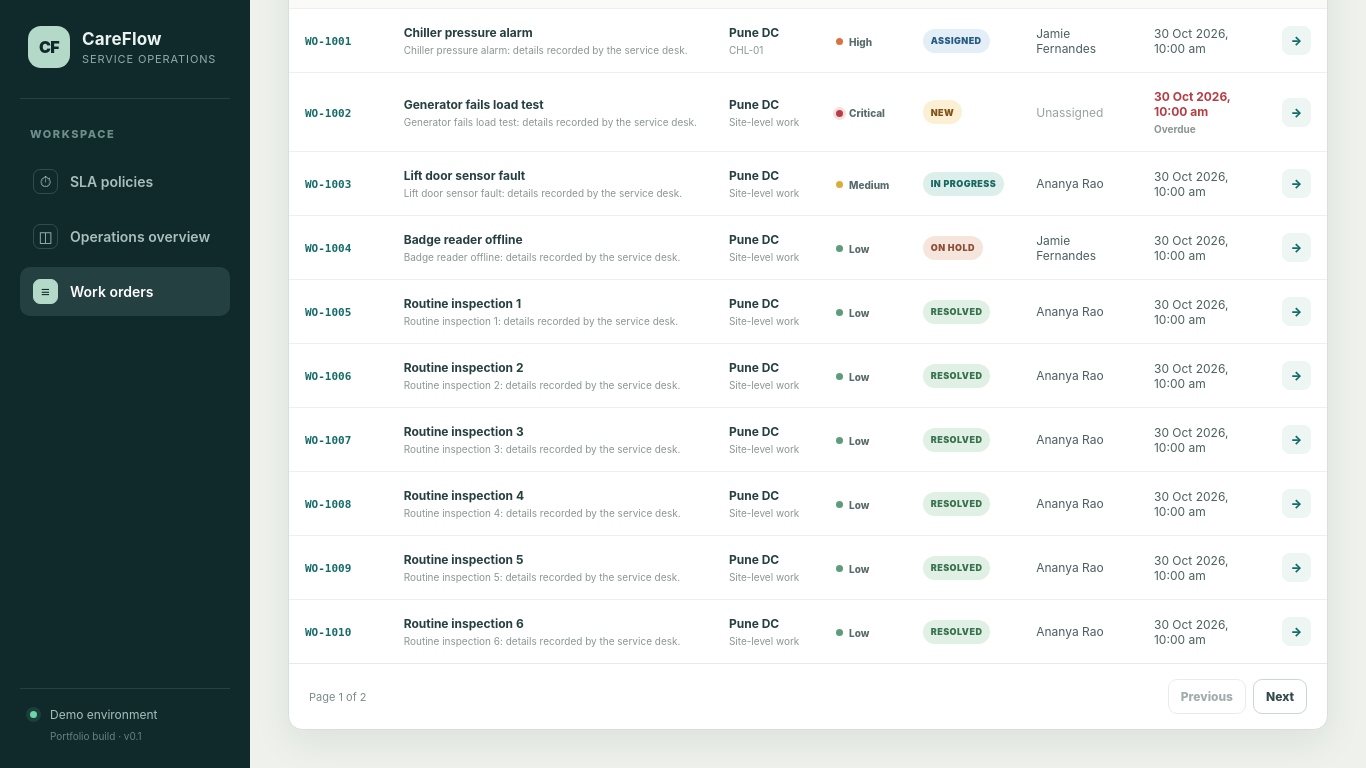
Test: Work orders list (MSW) › pages forwards and backwards
(page scrolled)
Expected: the text "Page 1 of 2" is shown, [309,690,366,704]
Expected: the button "Previous" is disabled, [1168,679,1246,714]
Click the button "Next": click(1280, 697) [1253,679,1307,714]
(page scrolled)
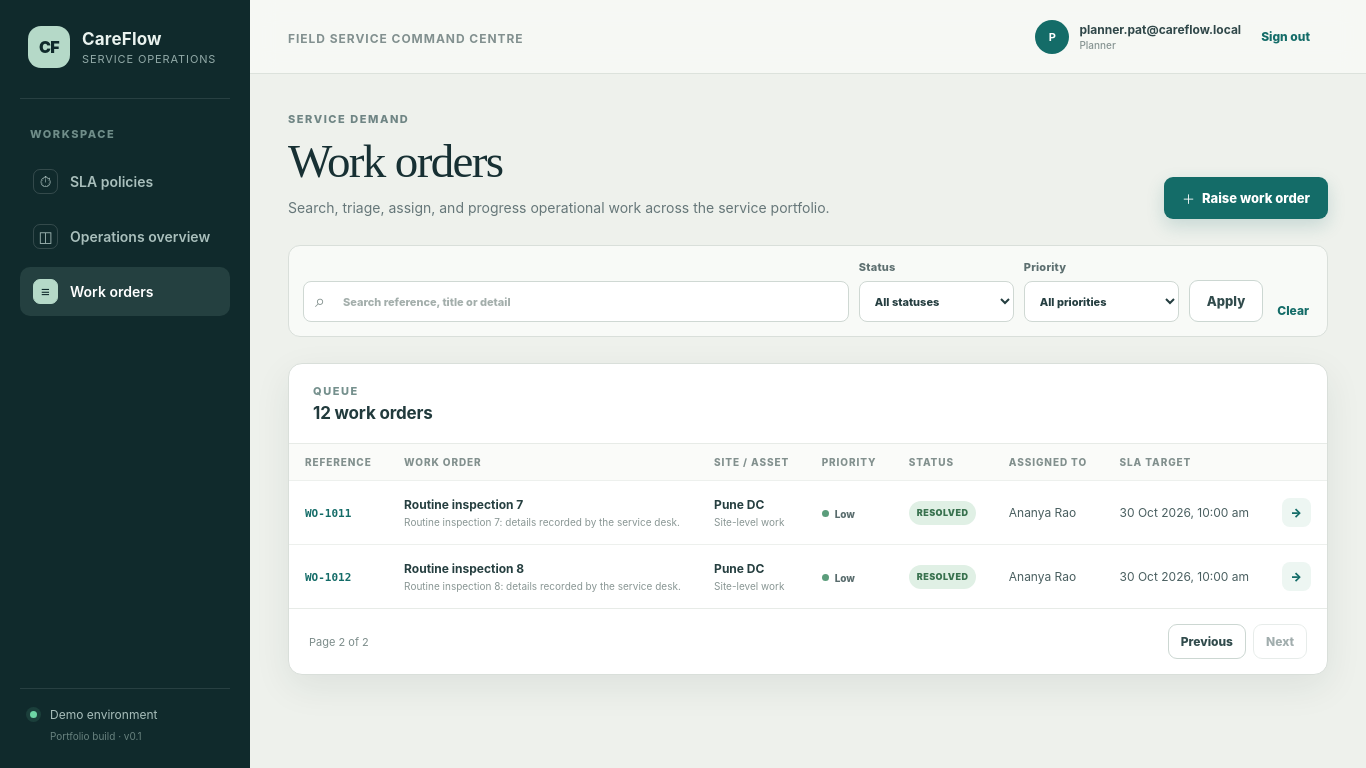
Now the text "Page 2 of 2" is shown, box [309,635,369,649]
Now the button "Next" is disabled, box [1253,624,1307,659]
Click the button "Previous": click(1207, 642) [1168,624,1246,659]
(page scrolled)
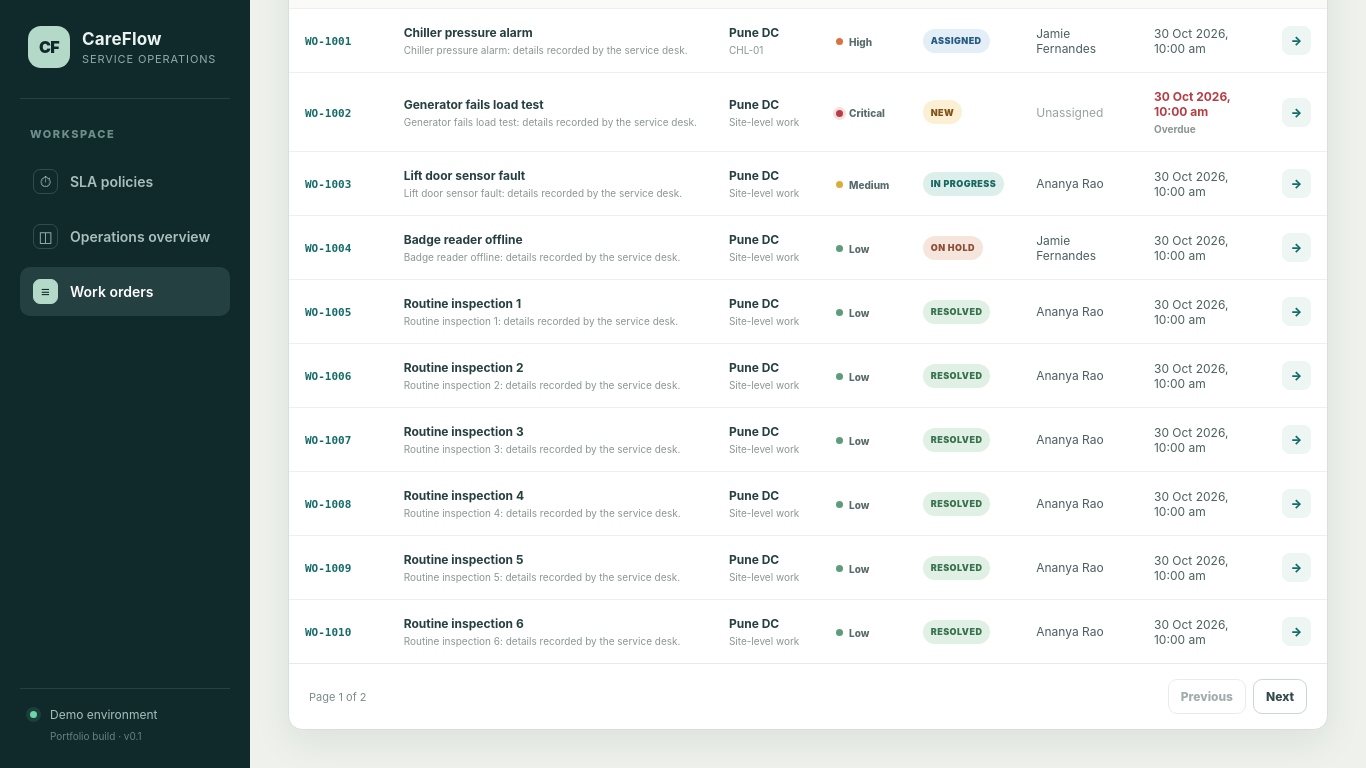
Now the text "Page 1 of 2" is shown, box [309,690,366,704]
